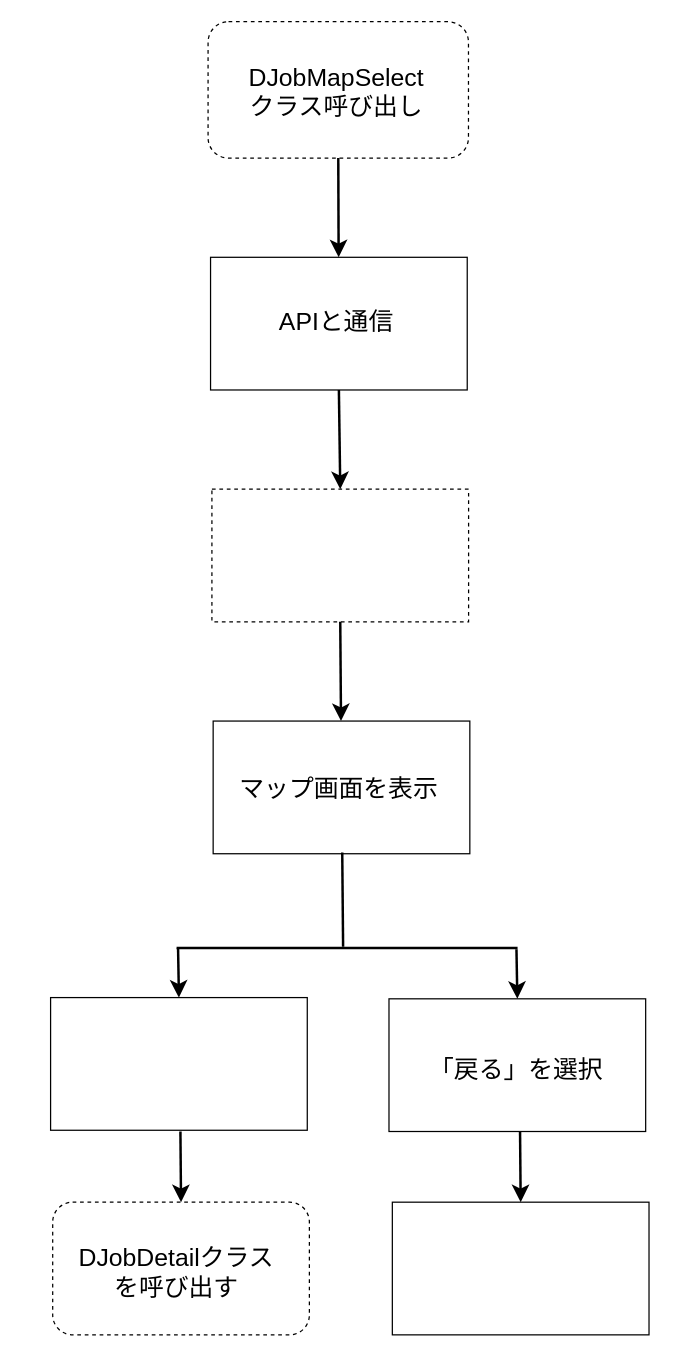
Some shapes in this 692 by 1357 pixel diagram are drawn without their labels. The shapes that lost their labels are listed below. From the top down, each one's box as (x1, y1, x2, y2) in pixels, then its label:
(211, 488, 469, 622): 求人情報住所、 周辺マップ、求人情報 を取得
(49, 996, 307, 1130): 求人情報を選択
(391, 1201, 649, 1335): 1つ前のパスに 戻る
